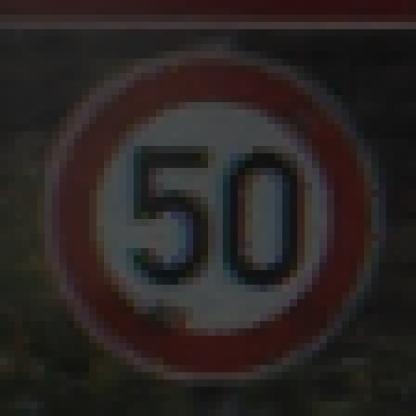Speed Limit 50: (49, 60, 378, 373)
